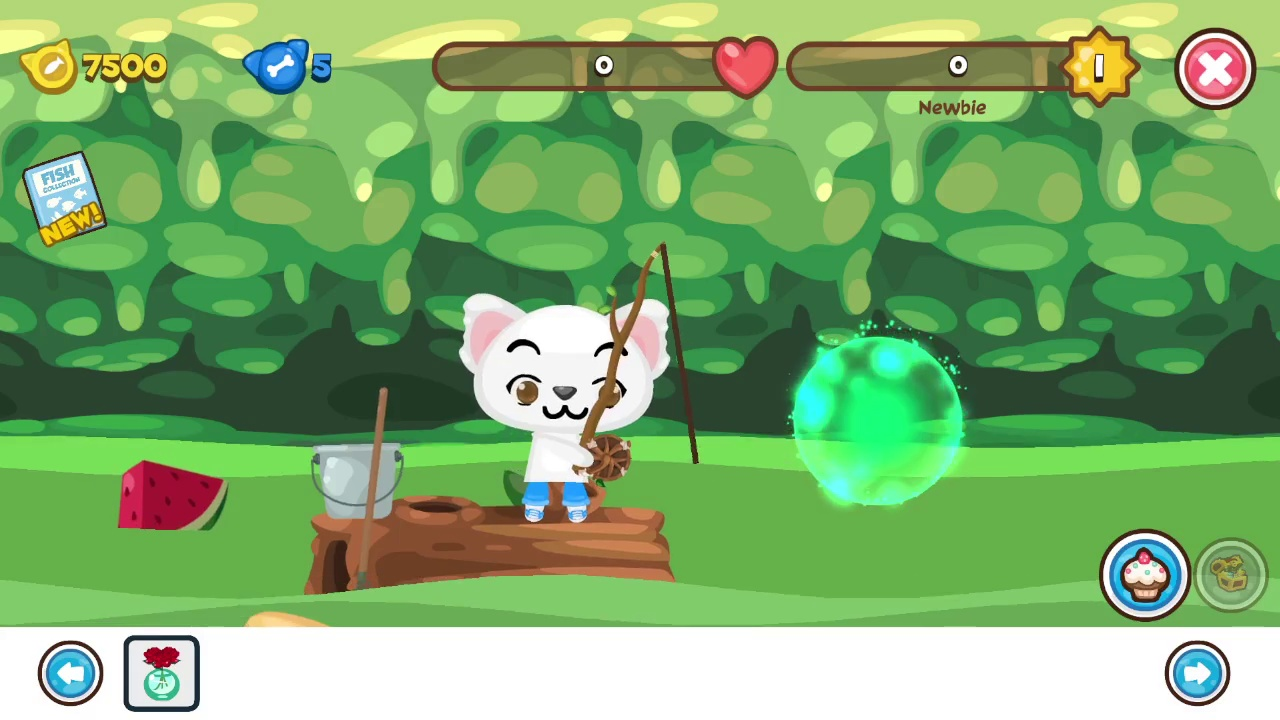point: (794, 337, 964, 508)
